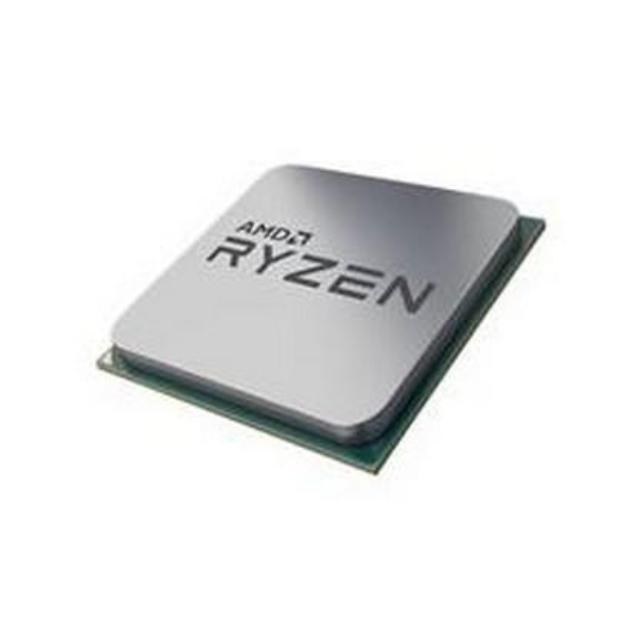CPU: (120, 150, 525, 464)
